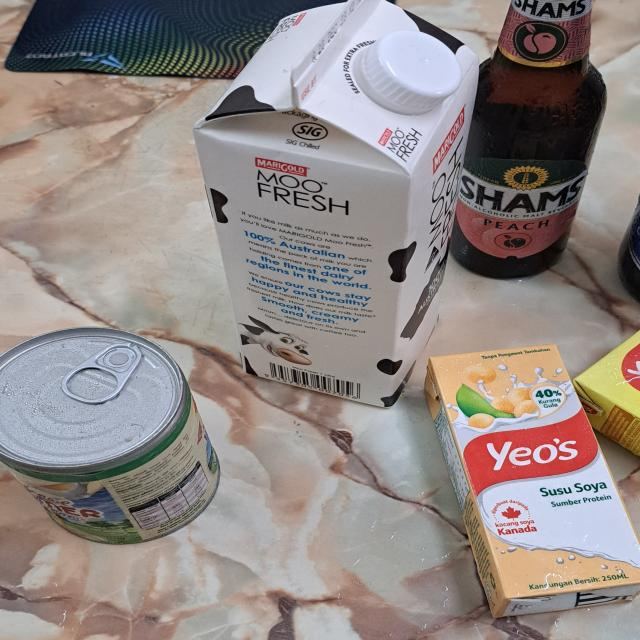can: (0, 327, 222, 547)
drink carton: (190, 0, 478, 408), (421, 344, 640, 621), (578, 326, 640, 457)
glass bottle: (449, 0, 607, 279)
plastic bottle cap: (362, 30, 463, 113)
pop tab: (63, 342, 142, 403)
